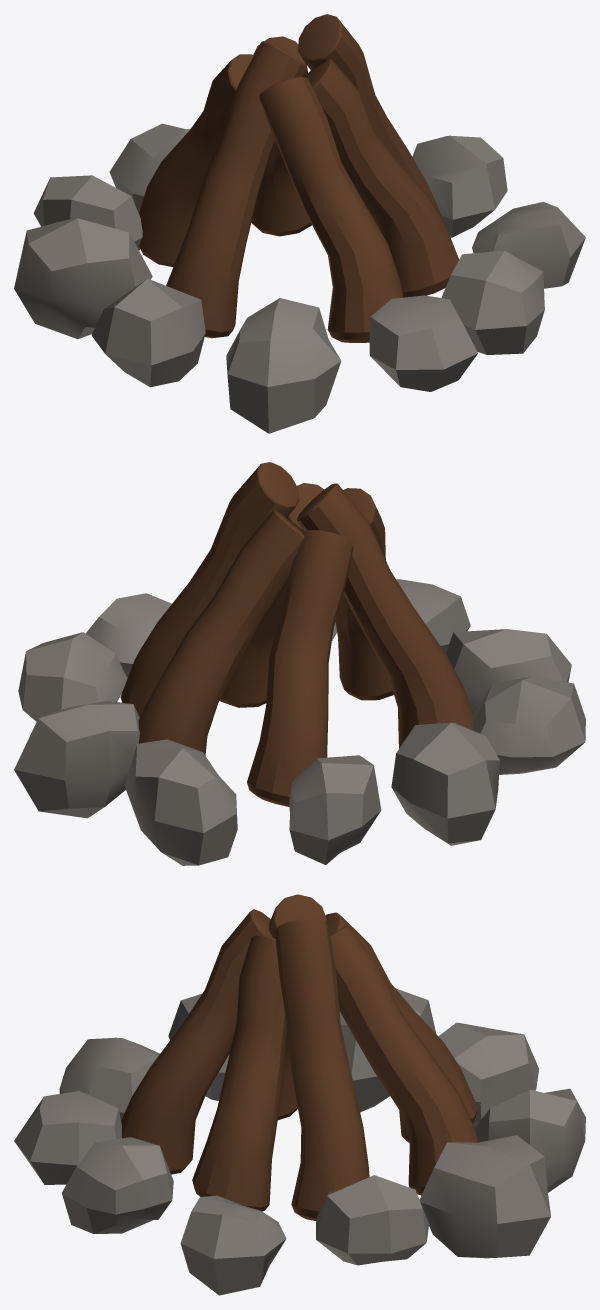
File: Greed_Campfire.fbx
3 renders of one model, top to bottom at view 1: azimuth 30°, elevation 25°; view 2: azimuth 150°, elevation 25°; view 3: azimuth 270°, elevation 25°, orthographic.
Parts seen in each view (by area): view 1: Campfire; view 2: Campfire; view 3: Campfire.
Boxes of the visible parts, x1,y1,x2,y2 form: Campfire: (14, 14, 585, 433); Campfire: (14, 462, 585, 865); Campfire: (14, 894, 585, 1295).
Bounding box in the file's own units: 1.55 × 0.9331 × 1.6.
